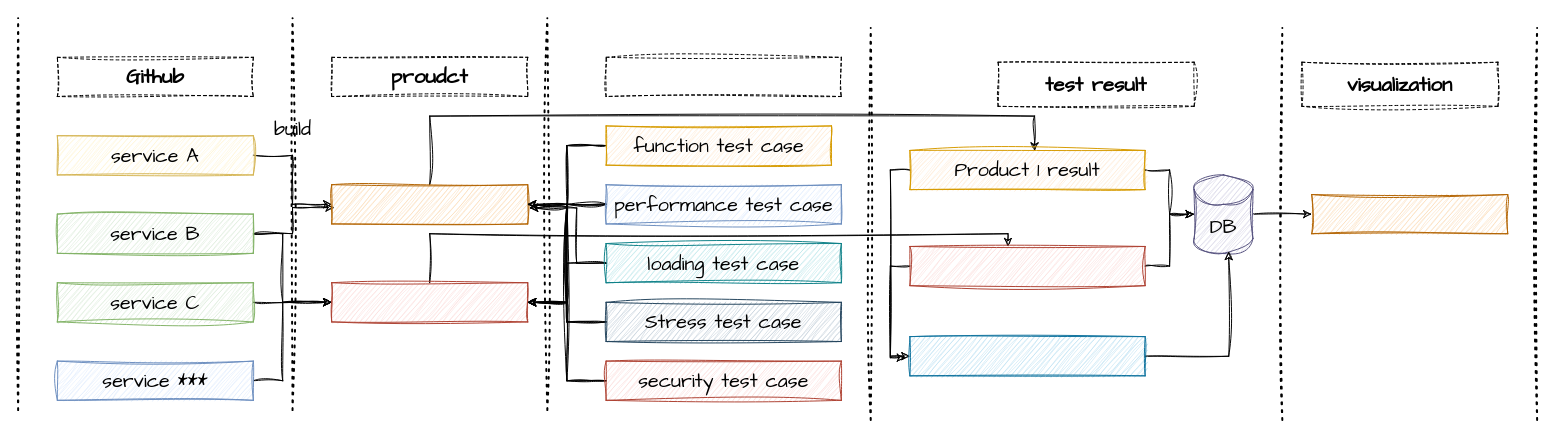
Image size: 1555x438. Some labels were removed from this diagram. The shapes that lost their labels are listed below. From the top down, each one's centre as x and y in pixels, then its label:
(723,76): system test
(429,204): Product 1
(1409,214): system visualization
(1027,265): Product 2 result
(429,302): Product 2
(1027,356): result analysis
